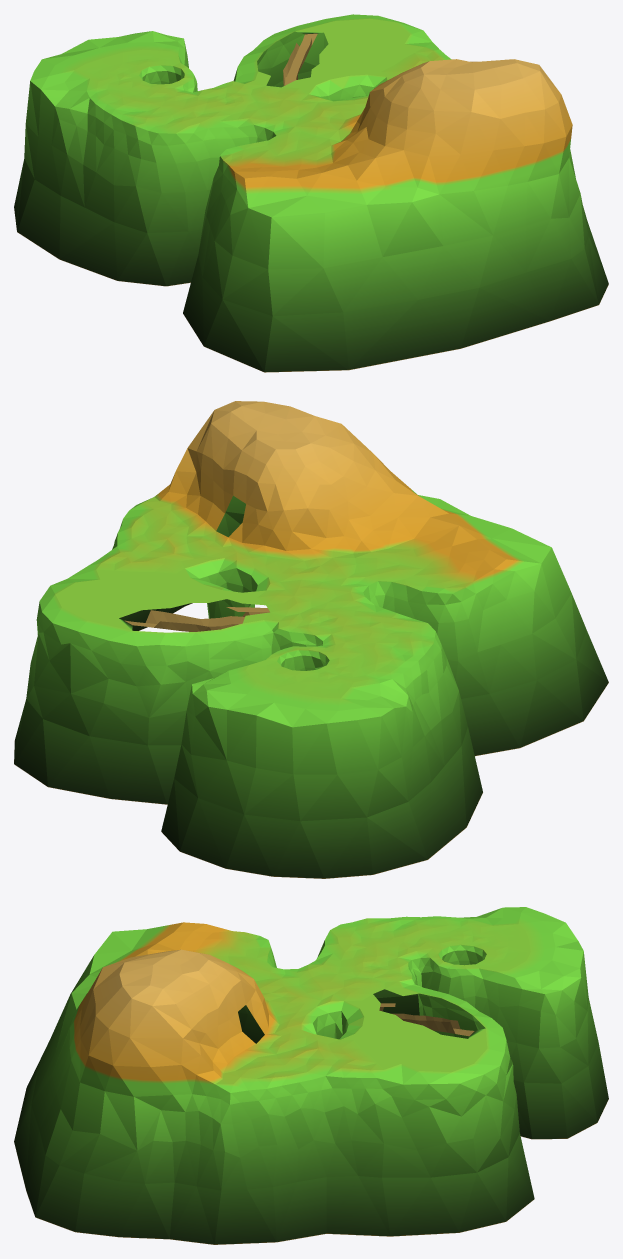
Rendered from HalfIsland.fbx.
The picture shows the model from 3 angles, top to bottom: view 1: azimuth 30°, elevation 25°; view 2: azimuth 150°, elevation 25°; view 3: azimuth 270°, elevation 25°; orthographic projection. The views are drawn at different scales.
Visible parts, largest first — view 1: Terrain; view 2: Terrain; view 3: Terrain.
Boxes of the visible parts, <box> form: Terrain: <box>14,14,608,372</box>; Terrain: <box>14,401,608,878</box>; Terrain: <box>14,907,608,1244</box>.
Size of the model in its own units: 8265 by 3965 by 9804.
